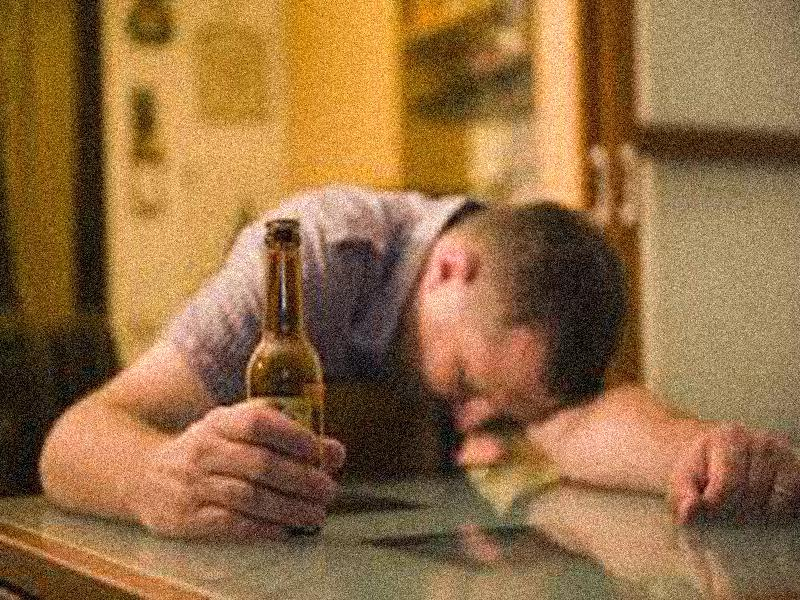Beer: (250, 216, 320, 538)
